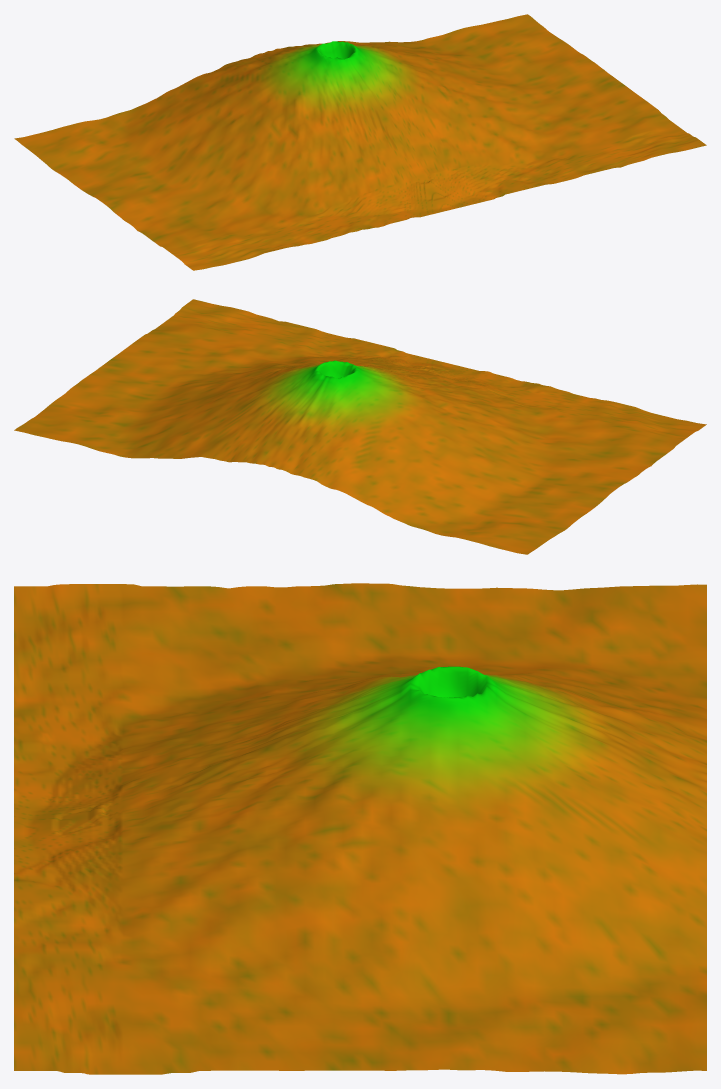
File: mountain_massif.glb
3 renders of one model, top to bottom at view 1: azimuth 30°, elevation 25°; view 2: azimuth 150°, elevation 25°; view 3: azimuth 270°, elevation 25°, orthographic. The views are drawn at different scales.
Visible parts, largest first — view 1: mountain_massif; view 2: mountain_massif; view 3: mountain_massif.
Boxes of the visible parts, x1=… form: mountain_massif: x1=14, y1=14, x2=706, y2=270; mountain_massif: x1=14, y1=299, x2=706, y2=554; mountain_massif: x1=14, y1=583, x2=706, y2=1074.
Size of what is drawn, in the model's own units: 2200 by 320 by 1330.
